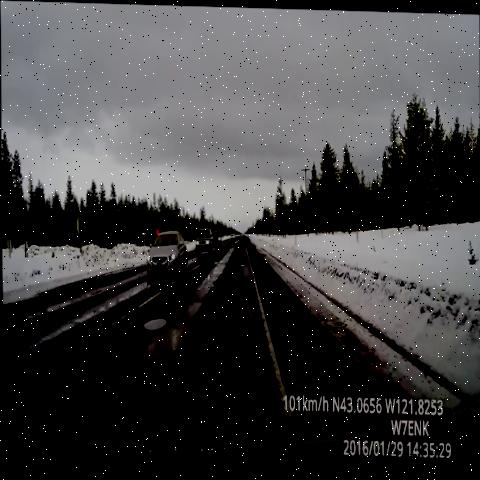pothole: (133, 294, 180, 350), (237, 267, 257, 298), (226, 228, 241, 258), (236, 251, 249, 277)
